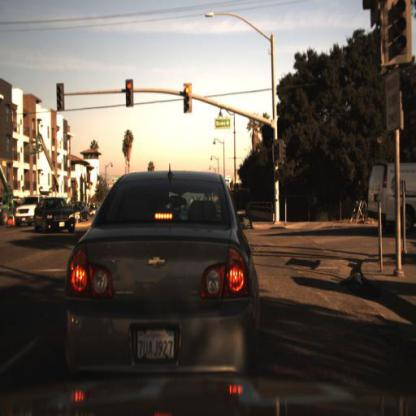car: (54, 163, 263, 413), (368, 159, 416, 236), (30, 190, 74, 235), (11, 191, 49, 234), (14, 189, 36, 232)
trafficLight: (381, 1, 416, 77), (183, 82, 193, 117), (56, 84, 66, 111)
trafficLight-Red: (274, 137, 285, 166), (125, 78, 135, 109)
